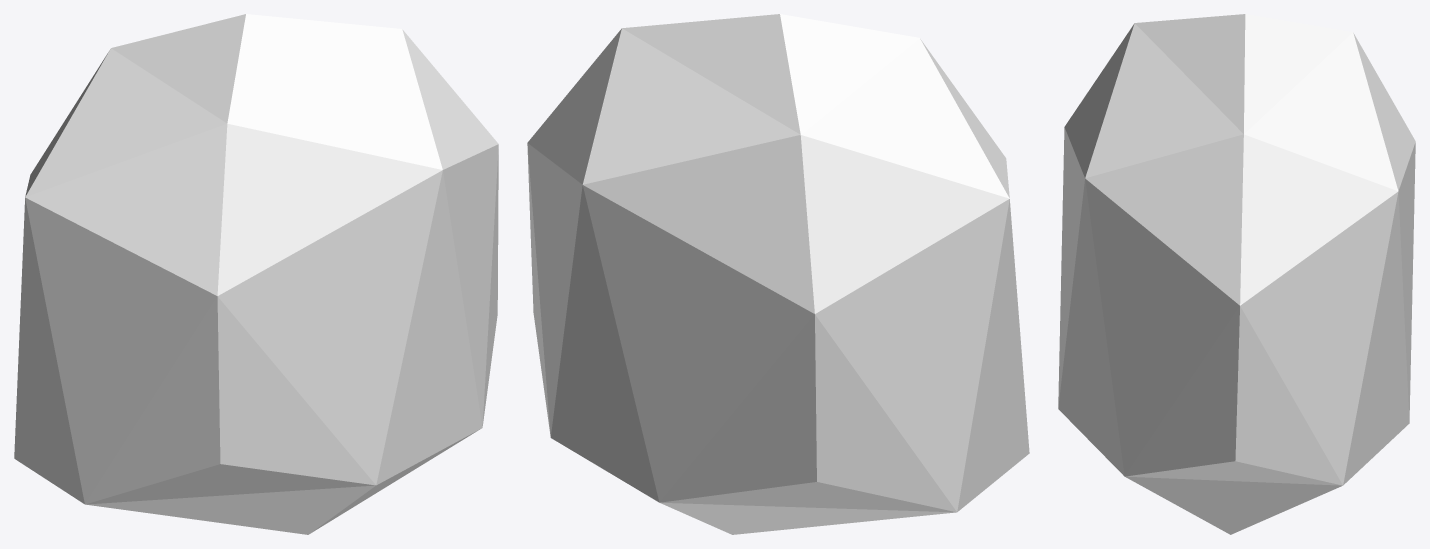
Rendered from cloud_01.fbx.
The picture shows the model from 3 angles, left to right: view 1: azimuth 30°, elevation 25°; view 2: azimuth 150°, elevation 25°; view 3: azimuth 270°, elevation 25°; orthographic projection. The views are drawn at different scales.
Parts seen in each view (by area): view 1: cloud_01; view 2: cloud_01; view 3: cloud_01.
Boxes of the visible parts, <box> form: cloud_01: <box>14,14,498,534</box>; cloud_01: <box>527,14,1029,534</box>; cloud_01: <box>1058,14,1415,534</box>.
Size of the model in its own units: 59.31 by 63.37 by 41.39.
Materials: 1 (1 with a texture image).
